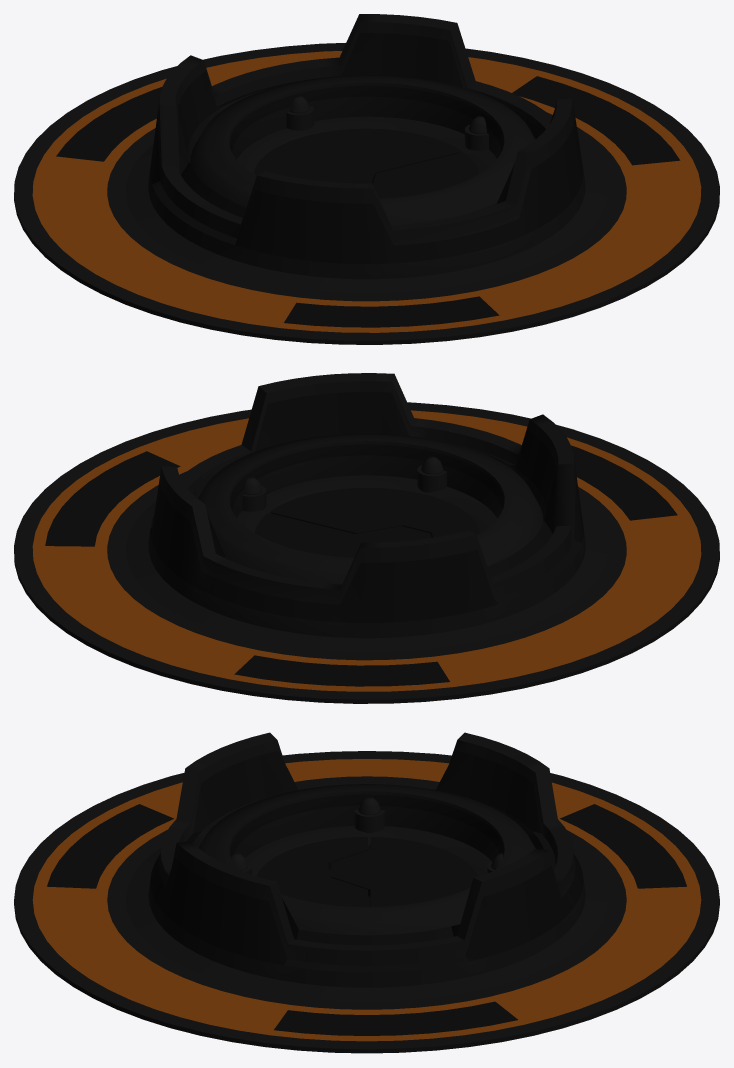
File: Waterlock_Door_A.FBX
3 renders of one model, top to bottom at view 1: azimuth 30°, elevation 25°; view 2: azimuth 150°, elevation 25°; view 3: azimuth 270°, elevation 25°, orthographic.
Parts seen in each view (by area): view 1: Waterlock_Door_A; view 2: Waterlock_Door_A; view 3: Waterlock_Door_A.
Boxes of the visible parts, <box> form: Waterlock_Door_A: <box>14,14,719,344</box>; Waterlock_Door_A: <box>14,373,719,703</box>; Waterlock_Door_A: <box>14,732,719,1053</box>.
Size of the model in its own units: 4.56 by 0.7256 by 4.56.
